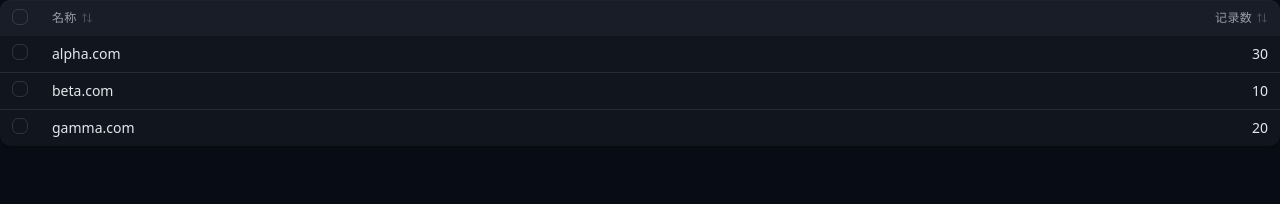
Test: DataTable — row selection › passes the selected row ids to selectionActions
Expected: the button "删除" is not shown
Click the checkbox named "选择此行" next to "alpha.com".
click(20, 52)  # box [12, 44, 28, 60]
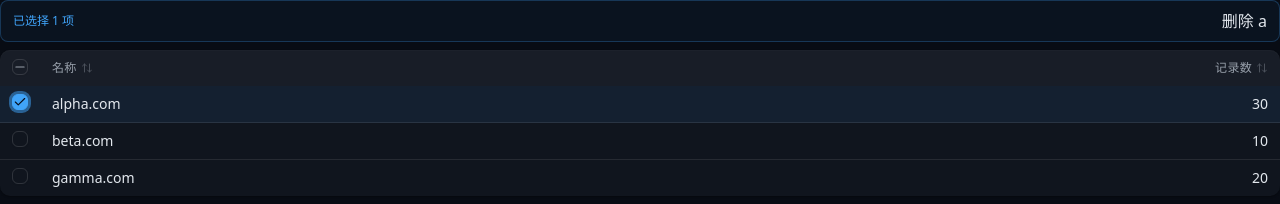
Expected: the text "已选择 1 项" is shown, [13, 13, 74, 29]
Expected: the button "删除 a" is shown, [1222, 9, 1267, 33]
